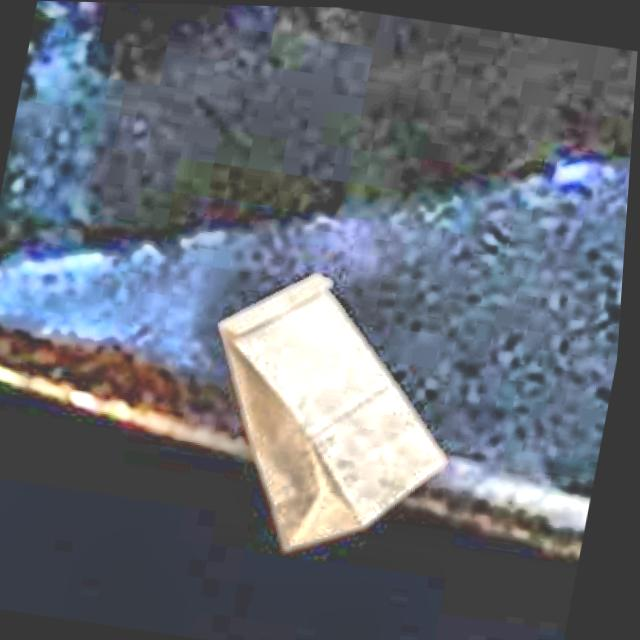Paper-bag: (168, 249, 495, 584)
